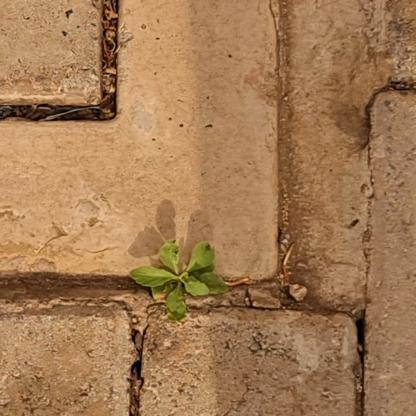Weeds: (128, 239, 228, 324)
